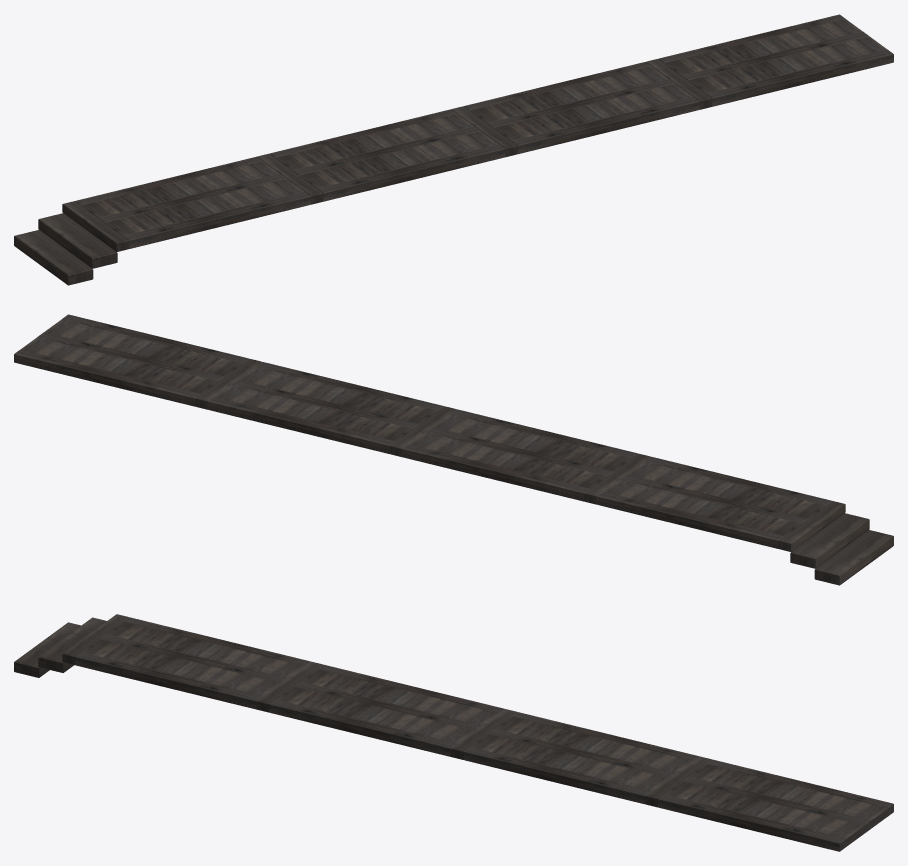
Rendered from SM_Unhyun_Norak_Floor_O001.fbx.
3 views of the same model, one above another, from view 1: azimuth 30°, elevation 25°; view 2: azimuth 150°, elevation 25°; view 3: azimuth 330°, elevation 25° (orthographic).
Parts seen in each view (by area): view 1: SM_Unhyun_Norak_Floor_O001; view 2: SM_Unhyun_Norak_Floor_O001; view 3: SM_Unhyun_Norak_Floor_O001.
Part boxes in pixels (x1,y1,x2,y2): SM_Unhyun_Norak_Floor_O001: (14, 14, 893, 285); SM_Unhyun_Norak_Floor_O001: (14, 314, 893, 585); SM_Unhyun_Norak_Floor_O001: (14, 614, 893, 851).
Bounding box in the file's own units: 1109 × 39.59 × 126.
